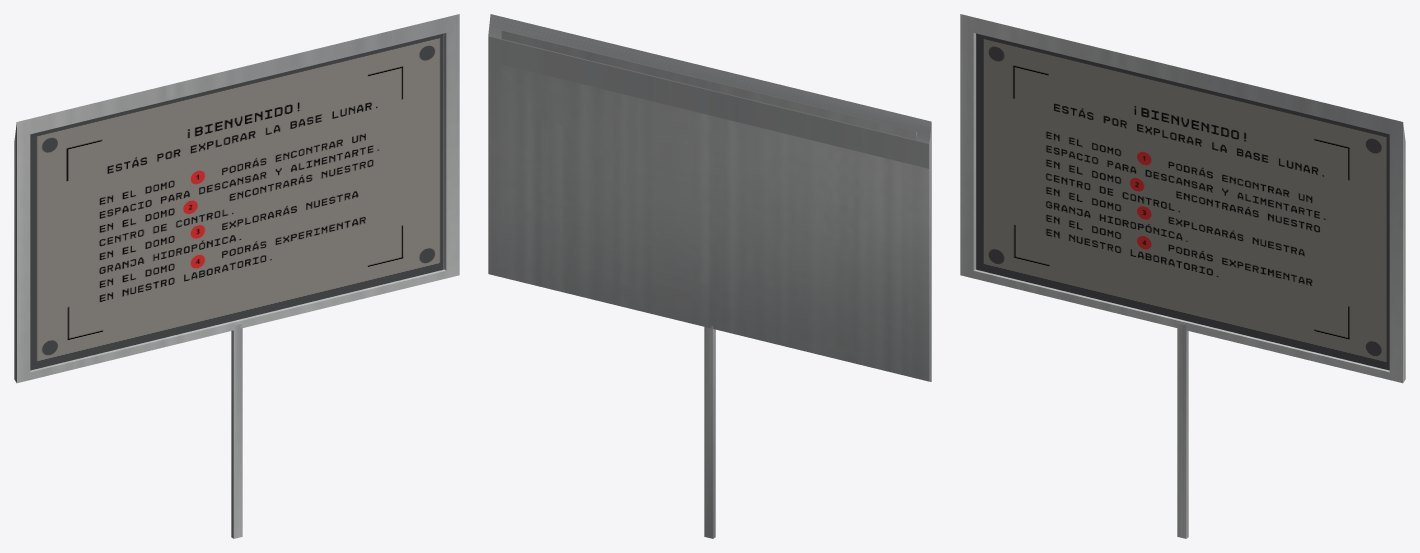
The model's file is cartel-bienvenida.fbx.
3 views of the same model, side by side, from view 1: azimuth 30°, elevation 25°; view 2: azimuth 150°, elevation 25°; view 3: azimuth 330°, elevation 25° (orthographic).
Visible parts, largest first — view 1: Plane; view 2: Plane; view 3: Plane.
Boxes of the visible parts, box(x1,y1,x2,y2) form: Plane: box(14, 14, 459, 538); Plane: box(488, 14, 931, 538); Plane: box(960, 14, 1405, 538).
Bounding box in the file's own units: 1070 × 1085 × 10.
2 materials, 2 textured.
